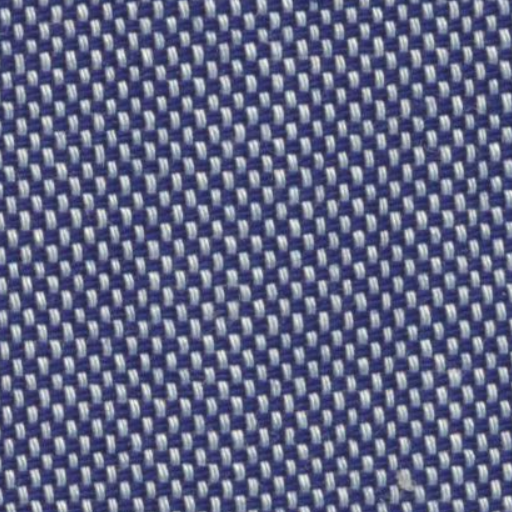MianQiu: (381, 452, 424, 498)
